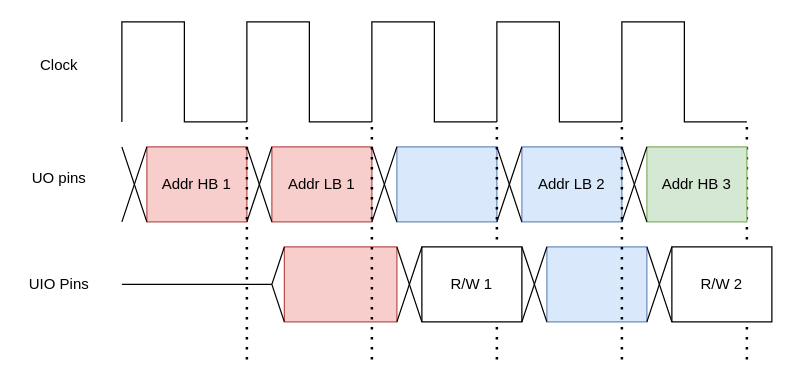
Some shapes in this 794 by 384 pixel diagram are drawn without their labels. Each missing label, with the centre of its shape:
Addr HB 2: point 446,184
Data 1: point 340,284
Data 2: point 596,284
